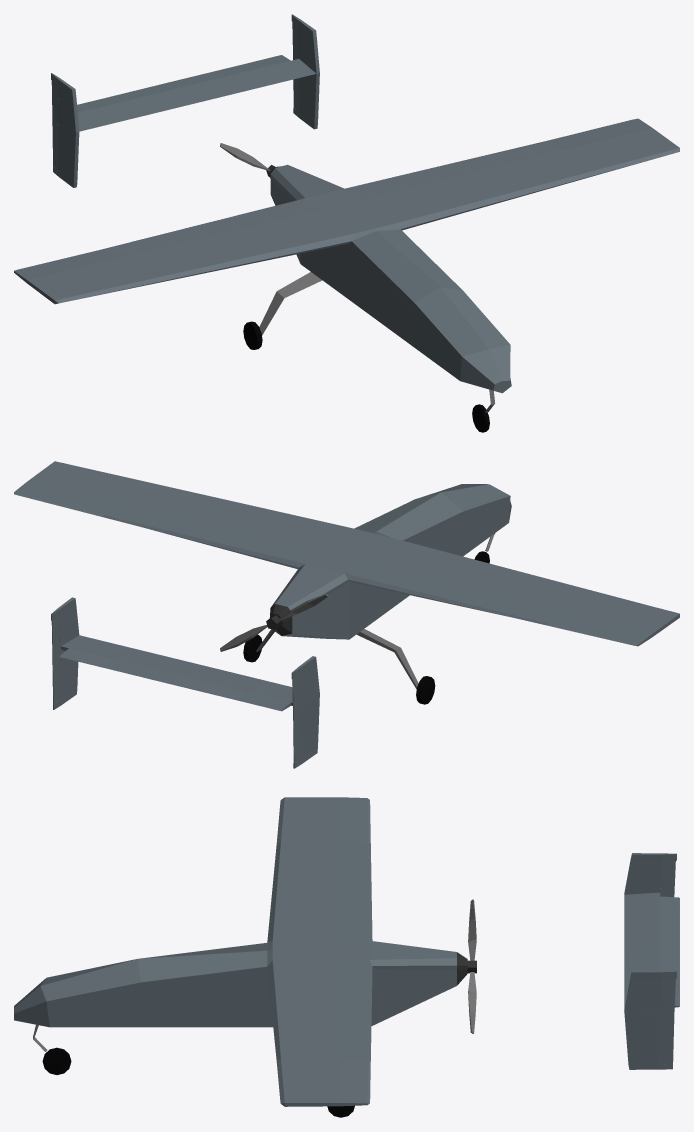
The picture shows the model from 3 angles, top to bottom: view 1: azimuth 30°, elevation 25°; view 2: azimuth 150°, elevation 25°; view 3: azimuth 270°, elevation 25°; orthographic projection.
Visible parts, largest first — view 1: Cube.040, Cube.047, Cube.041, Cube.049, Cube.042; view 2: Cube.040, Cube.047, Cube.041, Cube.042, Cube.049, Circle.004, Cube.048, Cube.043; view 3: Cube.040, Cube.041, Cube.047, Cube.043, Cube.042, Circle.004, Cube.046, Cube.049, Cube.048.
Part boxes in pixels (x1,y1,x2,y2): Cube.040: (14, 14, 679, 412); Cube.047: (547, 120, 645, 149); Cube.041: (20, 249, 118, 278); Cube.049: (171, 55, 290, 87); Cube.042: (77, 82, 179, 112); Cube.040: (14, 461, 679, 768); Cube.047: (19, 483, 117, 516); Cube.041: (547, 611, 645, 644); Cube.042: (170, 675, 290, 711); Cube.049: (59, 648, 179, 683); Circle.004: (220, 594, 328, 651); Cube.048: (292, 674, 302, 763); Cube.043: (51, 616, 61, 704); Cube.040: (14, 797, 676, 1106); Cube.041: (339, 800, 370, 843); Cube.047: (339, 1058, 370, 1101); Cube.043: (659, 978, 675, 1064); Cube.042: (660, 896, 679, 951); Circle.004: (467, 899, 476, 1033); Cube.046: (42, 1047, 71, 1074); Cube.049: (660, 951, 679, 1007); Cube.048: (660, 860, 675, 896).
Bounding box in the file's own units: 422 × 104 × 389.
